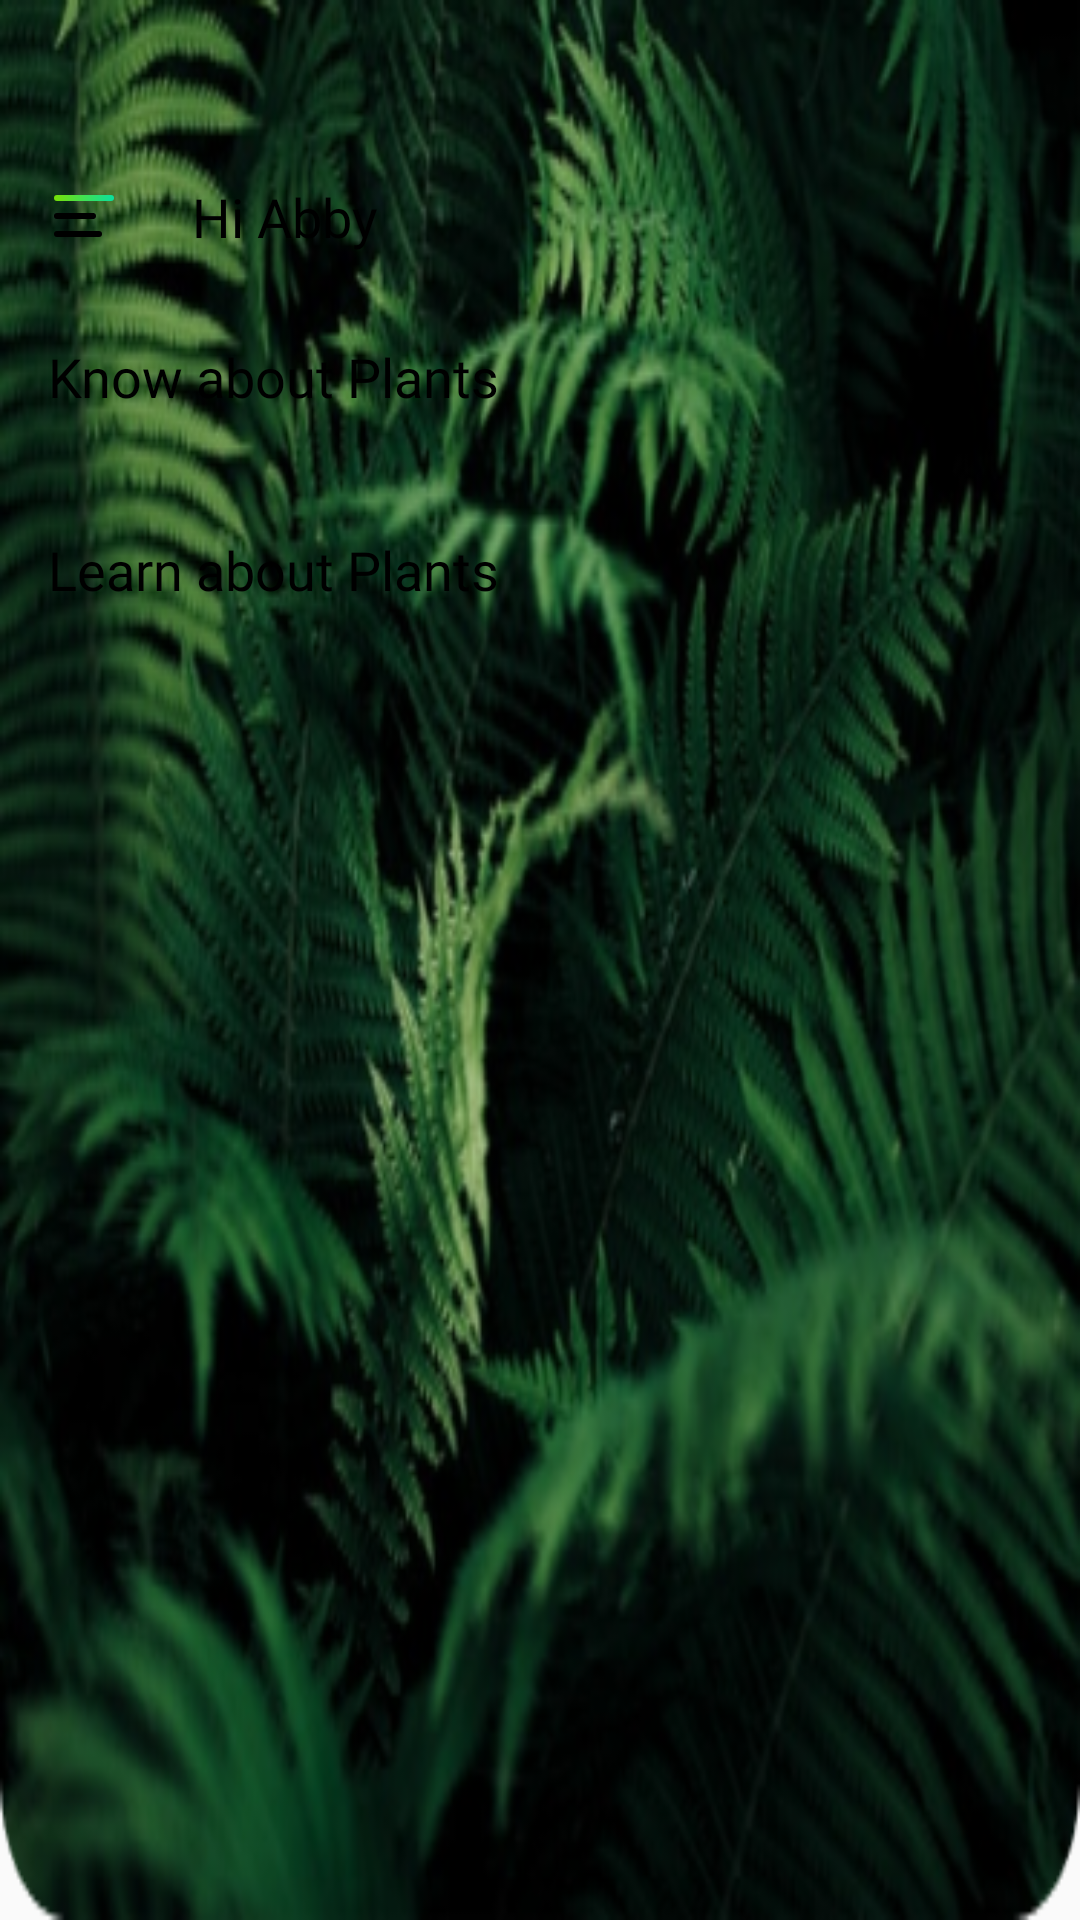

Point at icon controls on the screen. Image size 1080×1920, points as (x,y).
swipe right lines: (84,216)
